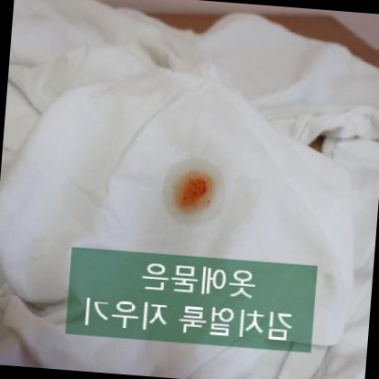kimchi: (172, 162, 224, 219)
